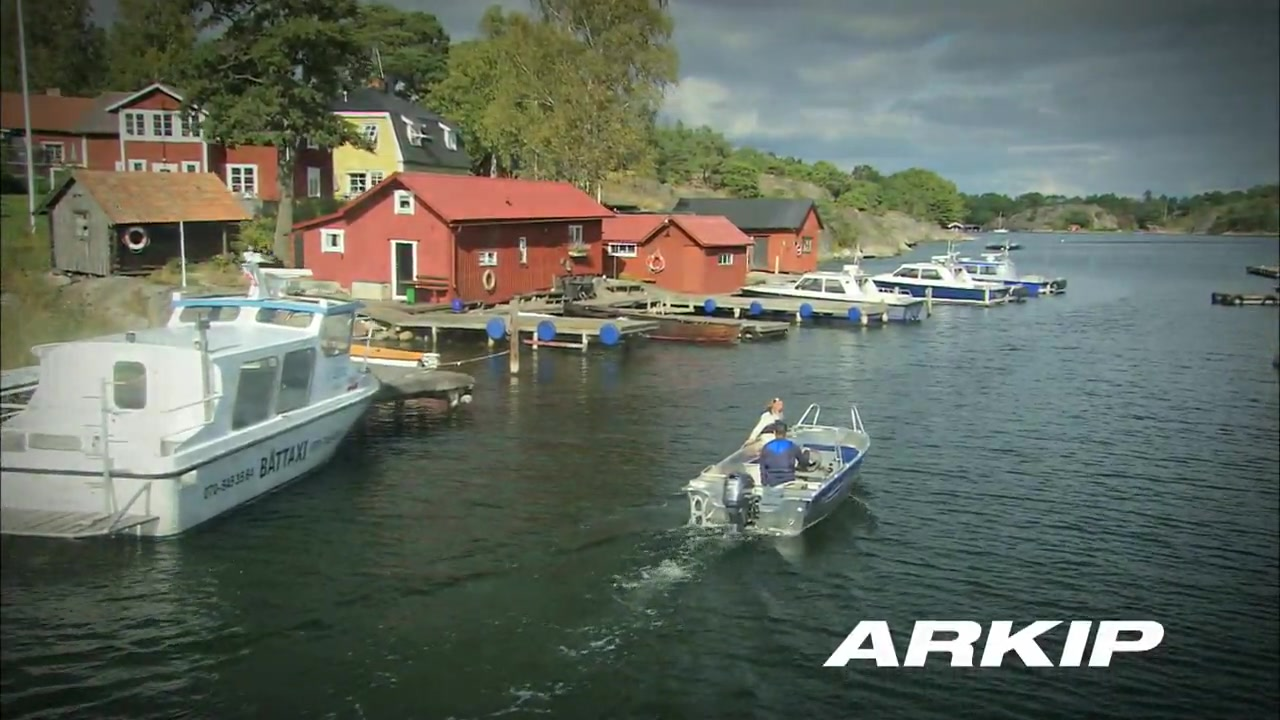boat: (682, 400, 877, 540)
